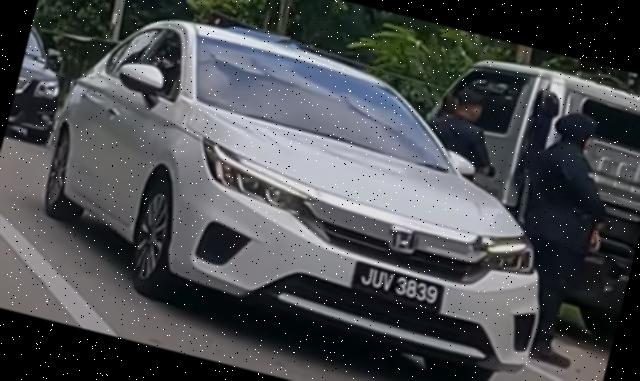License_Plate: (348, 260, 448, 315)
car: (17, 1, 591, 381)
